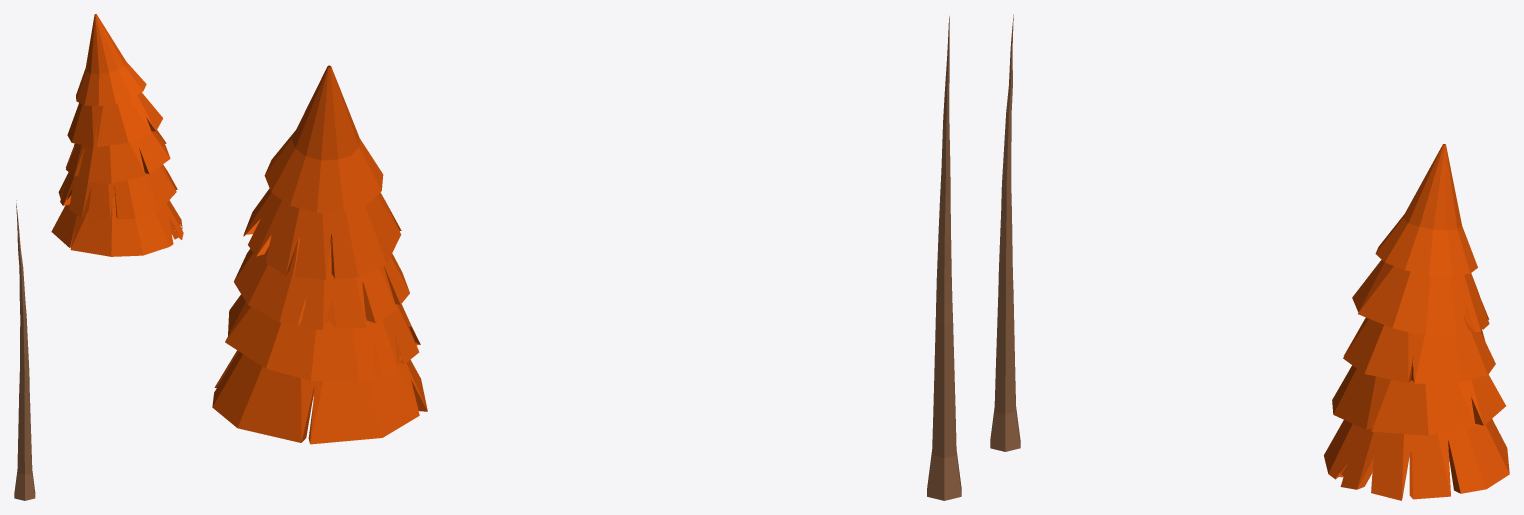
File: tree-dead-complete-15-013.glb
3 views of the same model, side by side, from view 1: azimuth 30°, elevation 25°; view 2: azimuth 150°, elevation 25°; view 3: azimuth 270°, elevation 25° (orthographic). The views are drawn at different scales.
Visible parts, largest first — view 1: TREE 15.007_391, TREE 15.006_392; view 2: TREE 15.007_391, TREE 15.006_392; view 3: TREE 15.007_391, TREE 15.006_392.
Part boxes in pixels (x1,y1,x2,y2): TREE 15.007_391: (51,14,183,256); TREE 15.006_392: (14,200,35,500); TREE 15.007_391: (212,65,427,444); TREE 15.006_392: (927,16,961,500); TREE 15.007_391: (1324,144,1509,500); TREE 15.006_392: (990,14,1020,451).
Bounding box in the file's own units: 2.24 × 2.22 × 2.29.
